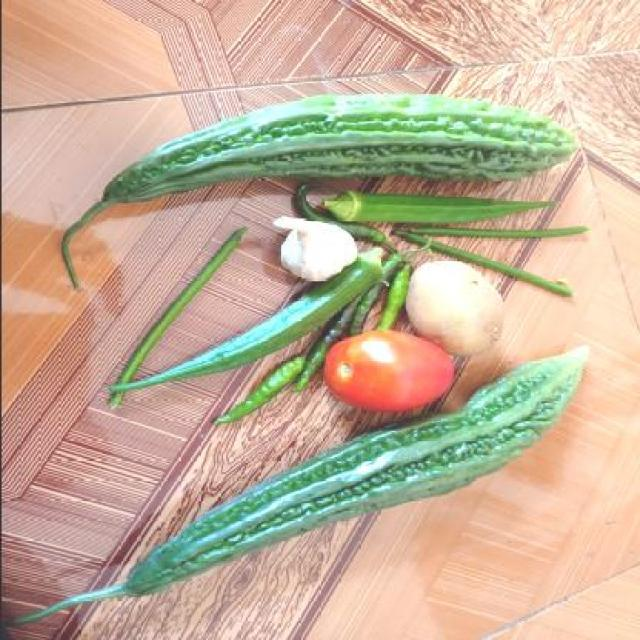Bitter melon: (77, 82, 594, 202)
Garlic: (255, 220, 357, 285)
Green Chili: (208, 346, 318, 445)
Lady finger: (314, 188, 557, 228)
Potato: (409, 252, 508, 354)
Tomato: (326, 326, 452, 422)
